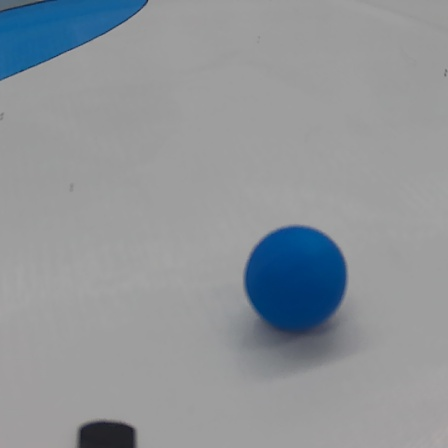blue: (243, 224, 349, 331)
blue_base: (0, 0, 143, 78)
